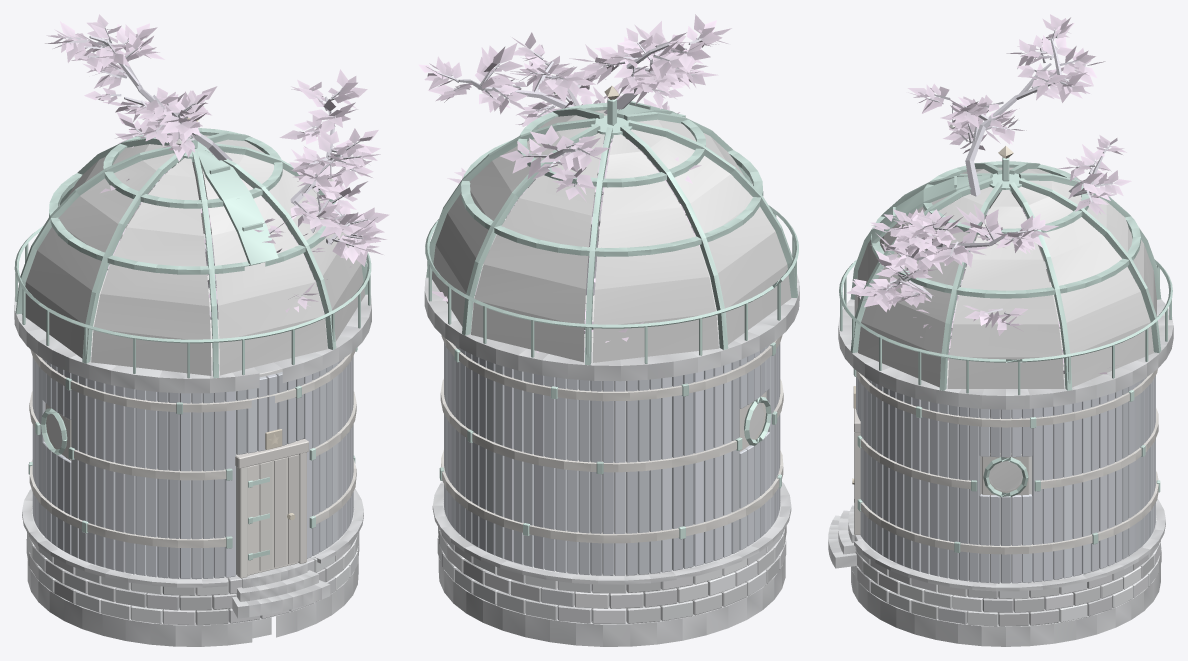
File: kit.glb
3 renders of one model, left to right at view 1: azimuth 30°, elevation 25°; view 2: azimuth 150°, elevation 25°; view 3: azimuth 270°, elevation 25°, orthographic. The views are drawn at different scales.
Parts seen in each view (by area): view 1: moonwatch_observatory__moon_glass, moonwatch_observatory__silver_stave, moonwatch_observatory__moon_ashlar, moonwatch_observatory__verdigris_bronze, moonwatch_observatory__pale_frame, silver_tree_b__lavender_leaf, silver_tree_a__lavender_leaf, silver_tree_b__silver_bark, moonwatch_observatory__recess_shadow; view 2: moonwatch_observatory__silver_stave, moonwatch_observatory__moon_glass, moonwatch_observatory__moon_ashlar, moonwatch_observatory__verdigris_bronze, silver_tree_b__lavender_leaf, moonwatch_observatory__pale_frame, silver_tree_a__lavender_leaf, silver_tree_b__silver_bark, moonwatch_observatory__recess_shadow, silver_tree_a__silver_bark; view 3: moonwatch_observatory__silver_stave, moonwatch_observatory__moon_glass, moonwatch_observatory__moon_ashlar, moonwatch_observatory__verdigris_bronze, silver_tree_b__lavender_leaf, moonwatch_observatory__pale_frame, silver_tree_a__lavender_leaf, silver_tree_b__silver_bark, moonwatch_observatory__recess_shadow.
Part boxes in pixels (box(x1,y1,x2,y2)): moonwatch_observatory__moon_glass: box(22, 135, 365, 447); moonwatch_observatory__silver_stave: box(32, 356, 353, 578); moonwatch_observatory__moon_ashlar: box(14, 234, 371, 646); moonwatch_observatory__verdigris_bronze: box(14, 128, 371, 560); moonwatch_observatory__pale_frame: box(29, 349, 356, 578); silver_tree_b__lavender_leaf: box(45, 14, 389, 275); silver_tree_a__lavender_leaf: box(84, 88, 367, 314); silver_tree_b__silver_bark: box(65, 28, 368, 319); moonwatch_observatory__recess_shadow: box(49, 270, 326, 576); moonwatch_observatory__silver_stave: box(444, 342, 780, 575); moonwatch_observatory__moon_glass: box(432, 109, 791, 437); moonwatch_observatory__moon_ashlar: box(424, 225, 799, 646); moonwatch_observatory__verdigris_bronze: box(425, 99, 798, 539); silver_tree_b__lavender_leaf: box(418, 14, 731, 342); moonwatch_observatory__pale_frame: box(440, 335, 783, 543); silver_tree_a__lavender_leaf: box(432, 73, 701, 352); silver_tree_b__silver_bark: box(436, 37, 702, 329); moonwatch_observatory__recess_shadow: box(472, 246, 762, 572); silver_tree_a__silver_bark: box(475, 99, 678, 295); moonwatch_observatory__silver_stave: box(856, 375, 1155, 583); moonwatch_observatory__moon_glass: box(854, 167, 1156, 490); moonwatch_observatory__moon_ashlar: box(828, 261, 1173, 646); moonwatch_observatory__verdigris_bronze: box(839, 157, 1172, 552); silver_tree_b__lavender_leaf: box(858, 14, 1105, 366); moonwatch_observatory__pale_frame: box(854, 369, 1158, 554); silver_tree_a__lavender_leaf: box(846, 135, 1160, 374); silver_tree_b__silver_bark: box(881, 30, 1085, 324); moonwatch_observatory__recess_shadow: box(947, 282, 1064, 580).
Size of the model in its own units: 7.13 by 11.45 by 6.9.
